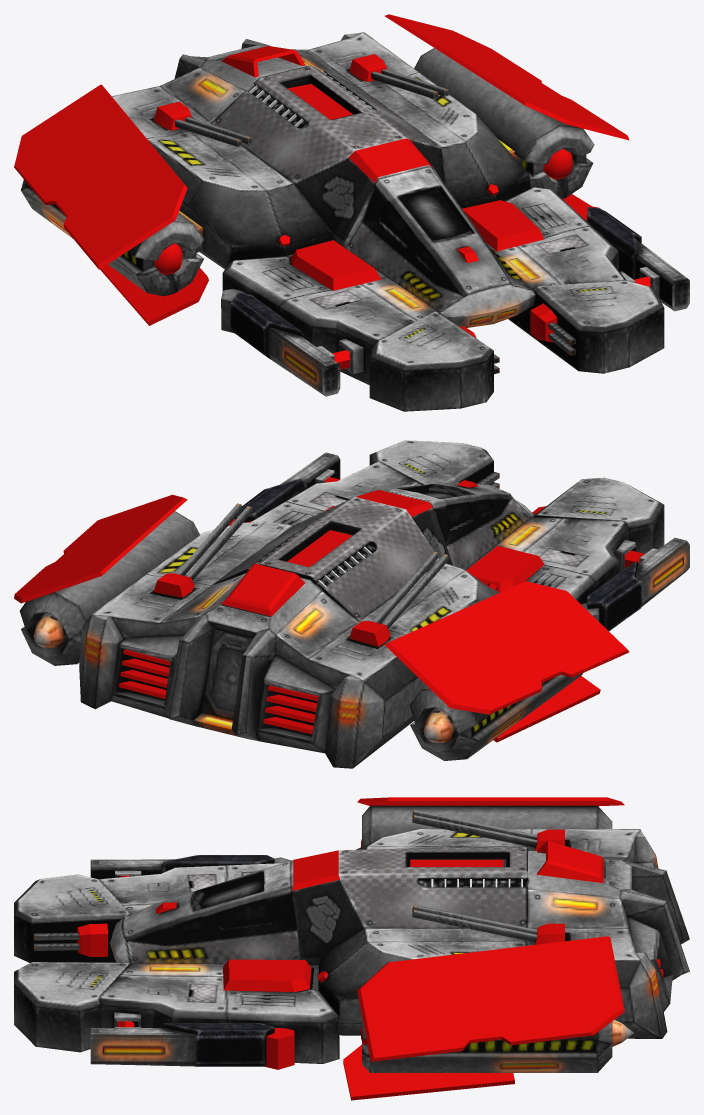
File: Zaiten_lv4.fbx
3 renders of one model, top to bottom at view 1: azimuth 30°, elevation 25°; view 2: azimuth 150°, elevation 25°; view 3: azimuth 270°, elevation 25°, orthographic.
Visible parts, largest first — view 1: zaiten4_diffuse, zaiten4_color; view 2: zaiten4_diffuse, zaiten4_color; view 3: zaiten4_diffuse, zaiten4_color.
Part boxes in pixels (x1=…): zaiten4_diffuse: x1=21, y1=32, x2=689, y2=411; zaiten4_color: x1=14, y1=14, x2=651, y2=369; zaiten4_diffuse: x1=19, y1=440, x2=689, y2=768; zaiten4_color: x1=14, y1=477, x2=644, y2=742; zaiten4_diffuse: x1=14, y1=805, x2=689, y2=1072; zaiten4_color: x1=77, y1=797, x2=663, y2=1100.
Size of the model in its own units: 95.9 by 24.82 by 107.
